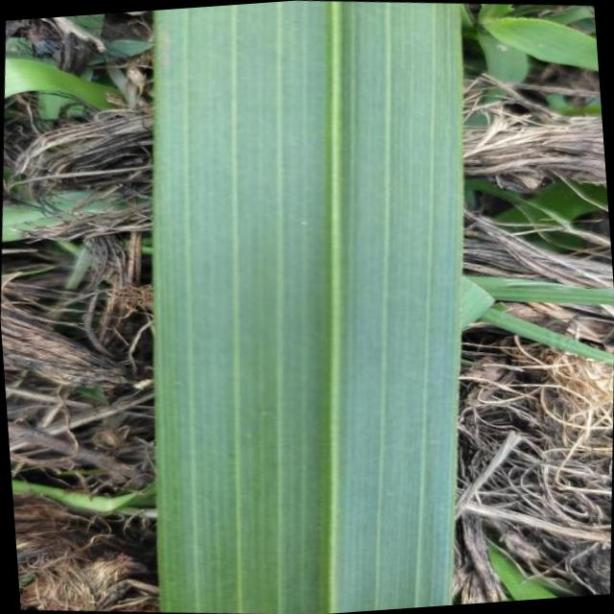Healthy: (150, 1, 463, 614)
